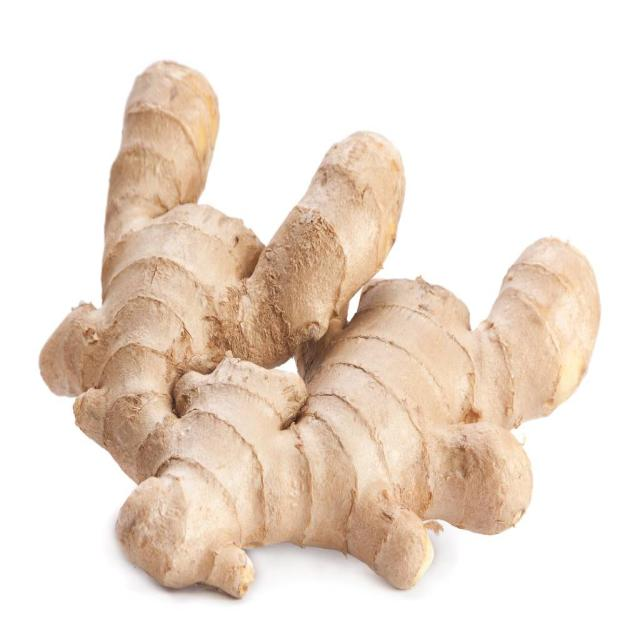ginger-root: (29, 42, 610, 604)
